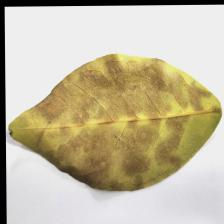black spot: (62, 82, 180, 151)
